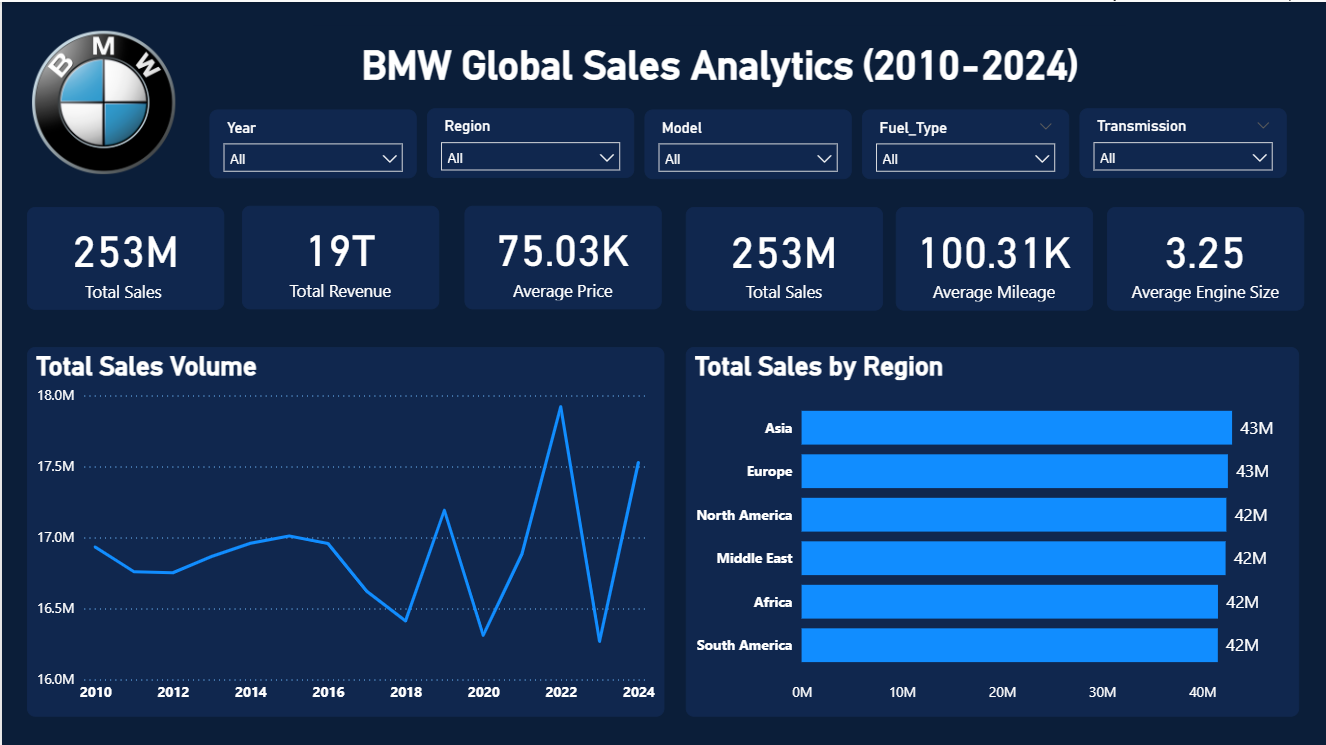

Layout of this report page (visuals, bound fields, positions):
{"tool":"powerbi","page":{"name":"Page 1","canvas":[1280,720],"ordinal":0},"visuals":[{"type":"image","box":[24.7,23.3,148.2,148.2],"z":0},{"type":"shape","title":"BMW Global Sales Analytics (2010-2024)","box":[300.4,22.9,784.2,74.8],"z":1000},{"type":"slicer","fields":{"Values":["BMW sales data (2010-2024) (1).Year"]},"box":[200.3,103.8,200.3,66.4],"z":2000},{"type":"slicer","fields":{"Values":["BMW sales data (2010-2024) (1).Region"]},"box":[410,102.7,200,67],"z":3000},{"type":"slicer","fields":{"Values":["BMW sales data (2010-2024) (1).Model"]},"box":[620,104.1,200,67],"z":4000},{"type":"slicer","fields":{"Values":["BMW sales data (2010-2024) (1).Fuel_Type"]},"box":[830,103.8,200.3,67.6],"z":5000},{"type":"slicer","fields":{"Values":["BMW sales data (2010-2024) (1).Transmission"]},"box":[1040,102.5,200.3,67.6],"z":6000},{"type":"card","fields":{"Values":["Sum(BMW sales data (2010-2024) (1).Sales_Volume)"]},"box":[24.1,197.9,190.6,98.9],"z":7000},{"type":"card","fields":{"Values":["Avg(BMW sales data (2010-2024) (1).Price_USD)"]},"box":[446.4,196.6,190,100.1],"z":8000},{"type":"card","fields":{"Values":["BMW sales data (2010-2024) (1).Total Revenue"]},"box":[231.6,196.6,190,100.1],"z":9000},{"type":"card","fields":{"Values":["BMW sales data (2010-2024) (1).Total Sales"]},"box":[659.9,197.9,190,100.1],"z":10000},{"type":"lineChart","title":"Total Sales Volume","fields":{"Category":["BMW sales data (2010-2024) (1).Year"],"Y":["Sum(BMW sales data (2010-2024) (1).Sales_Volume)"]},"box":[24.1,333,615.3,357.1],"z":11000},{"type":"barChart","title":"Total Sales by Region","fields":{"Category":["BMW sales data (2010-2024) (1).Region"],"Y":["Sum(BMW sales data (2010-2024) (1).Sales_Volume)"]},"box":[659.9,333,592.4,357.1],"z":12000},{"type":"card","fields":{"Values":["Avg(BMW sales data (2010-2024) (1).Mileage_KM)"]},"box":[863.1,197.6,190,100.2],"z":13000},{"type":"card","fields":{"Values":["Avg(BMW sales data (2010-2024) (1).Engine_Size_L)"]},"box":[1066.2,197.6,190,100.2],"z":14000}]}

Visuals, with their boxes in screenshot pixels (x1, y1, x2, y2), scaled from the page's 1280x720 canvas onto the 1326x745 screenshot:
image: (26, 24, 179, 177)
"BMW Global Sales Analytics (2010-2024)" shape: (311, 24, 1124, 101)
slicer - BMW sales data (2010-2024) (1).Year: (207, 107, 415, 176)
slicer - BMW sales data (2010-2024) (1).Region: (425, 106, 632, 176)
slicer - BMW sales data (2010-2024) (1).Model: (642, 108, 849, 177)
slicer - BMW sales data (2010-2024) (1).Fuel_Type: (860, 107, 1067, 177)
slicer - BMW sales data (2010-2024) (1).Transmission: (1077, 106, 1285, 176)
card - Sum(BMW sales data (2010-2024) (1).Sales_Volume): (25, 205, 222, 307)
card - Avg(BMW sales data (2010-2024) (1).Price_USD): (462, 203, 659, 307)
card - BMW sales data (2010-2024) (1).Total Revenue: (240, 203, 437, 307)
card - BMW sales data (2010-2024) (1).Total Sales: (684, 205, 880, 308)
"Total Sales Volume" lineChart: (25, 345, 662, 714)
"Total Sales by Region" barChart: (684, 345, 1297, 714)
card - Avg(BMW sales data (2010-2024) (1).Mileage_KM): (894, 204, 1091, 308)
card - Avg(BMW sales data (2010-2024) (1).Engine_Size_L): (1105, 204, 1301, 308)
